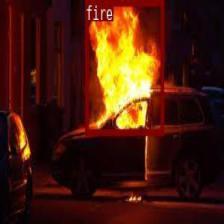fire: (84, 0, 163, 135)
